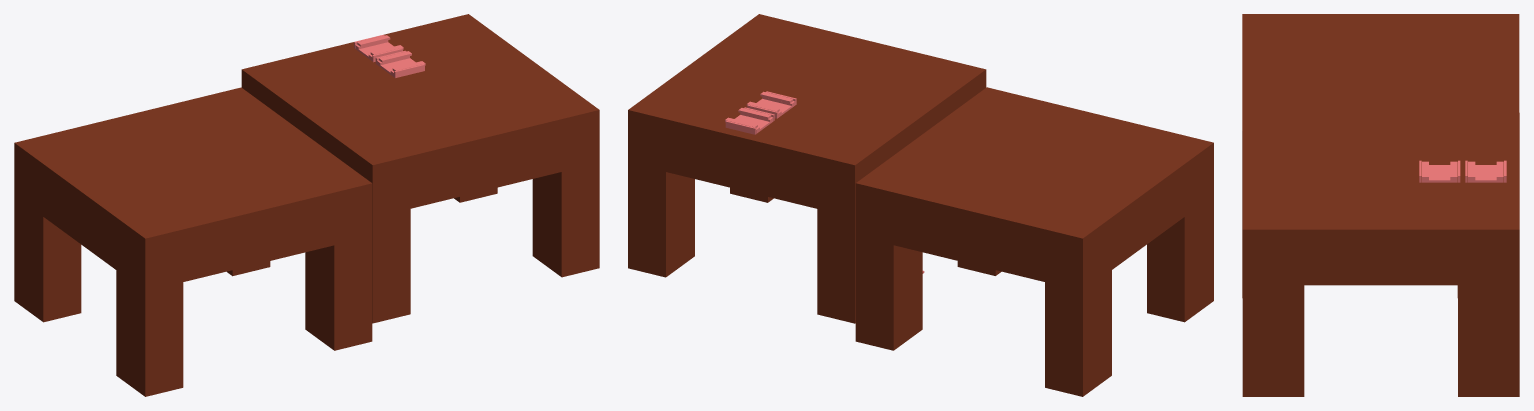
File: keva_double_station.dae
The picture shows the model from 3 angles, left to right: view 1: azimuth 30°, elevation 25°; view 2: azimuth 150°, elevation 25°; view 3: azimuth 270°, elevation 25°; orthographic projection. The views are drawn at different scales.
Visible parts, largest first — view 1: base (×7); view 2: base (×7); view 3: base (×6).
Boxes of the visible parts, left/top/right/bottom form: base (×7): left=14, top=14, right=599, bottom=396; base (×7): left=628, top=14, right=1213, bottom=396; base (×6): left=1242, top=14, right=1519, bottom=396.
Bounding box in the file's own units: 1.8 × 0.9009 × 0.6908.
